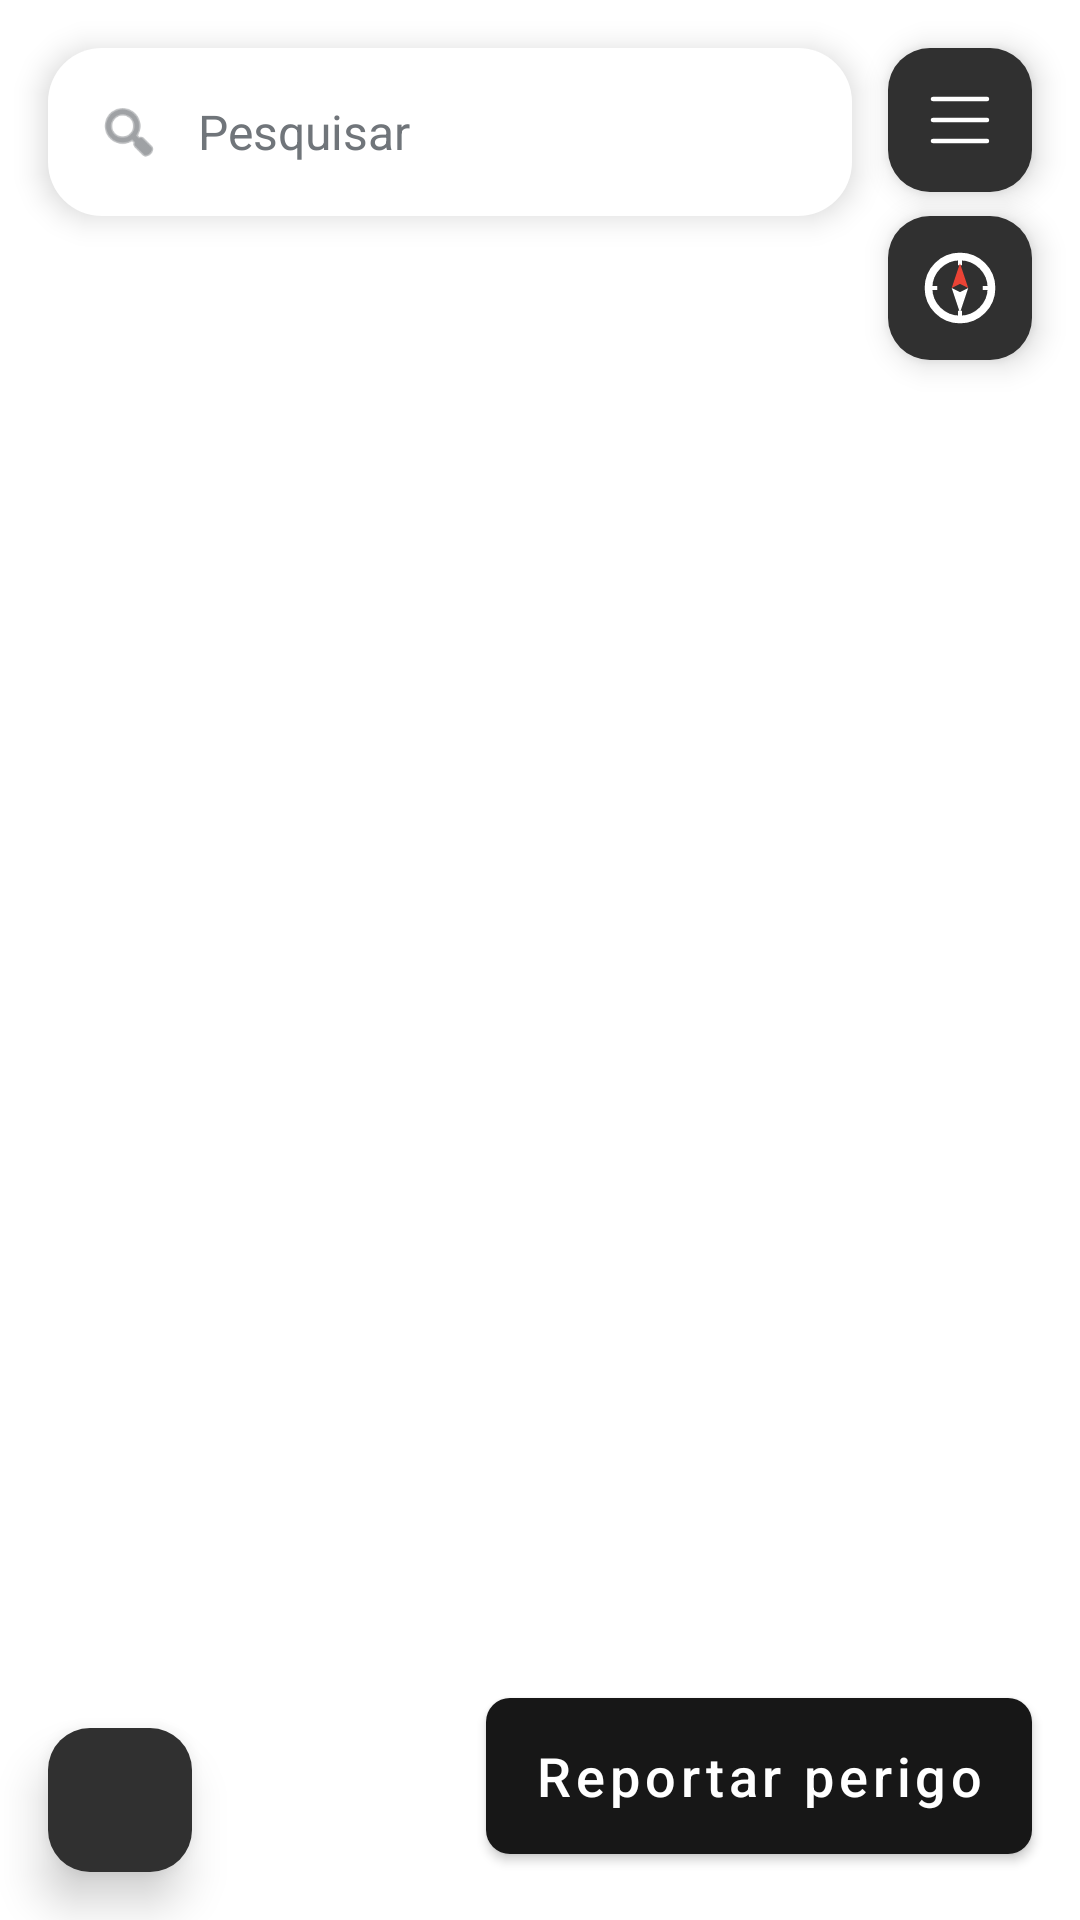

Where icons sit on this 1080px x 1920px app screen, as (x1, y1, x2, y2):
Abrir menu do mapa: (888, 48, 1032, 192)
